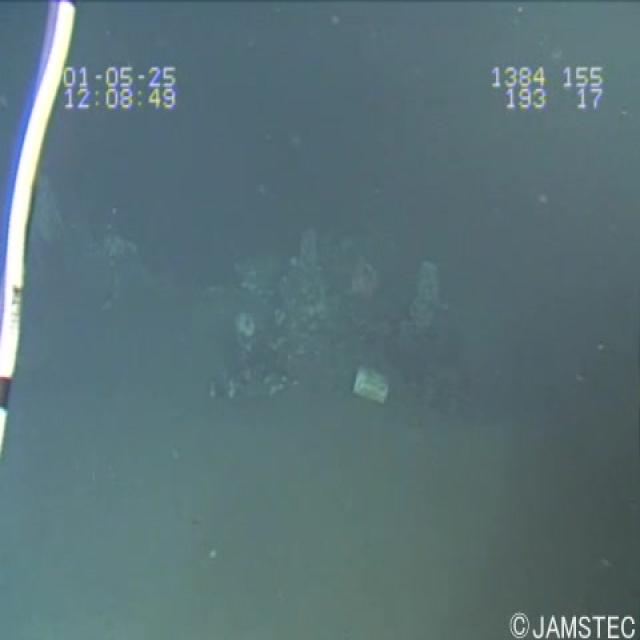plastic: (343, 356, 397, 414)
